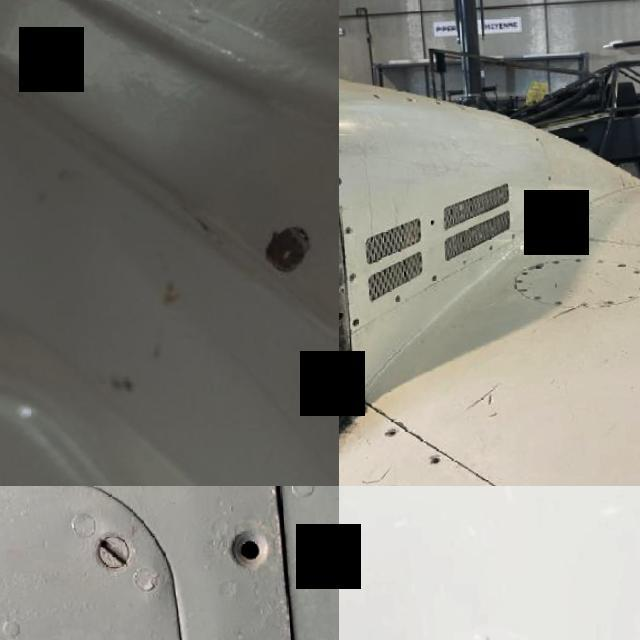Crack: (245, 198, 339, 325)
Missing_Fastener: (198, 499, 300, 602), (378, 428, 393, 439), (421, 457, 436, 468), (424, 220, 433, 228), (613, 266, 623, 272), (544, 178, 548, 183), (530, 203, 532, 208)
